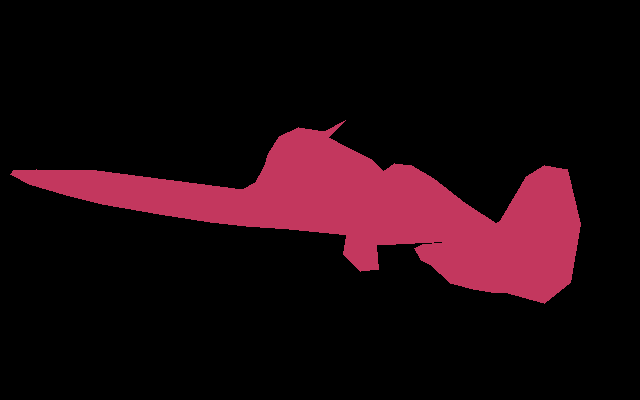Airplane: (10, 120, 581, 303)
